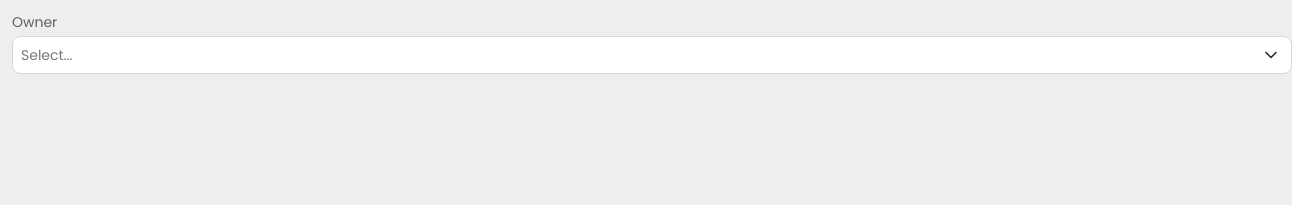
Test case: people and pictures in the combo box › keeps the chosen person's circle in the box once the list closes
The image size is (1292, 205).
Click the dropdown labelled "Owner" at {"x": 634, "y": 55}, box 21,44 -> 1247,66
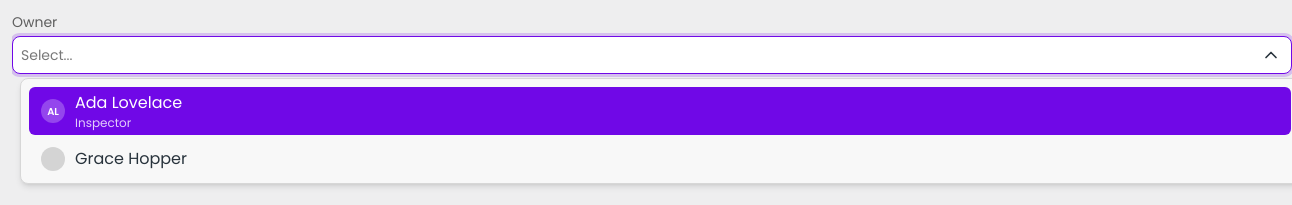
Click the option "AL Ada Lovelace Inspector" at {"x": 656, "y": 111}, box 21,83 -> 1291,139
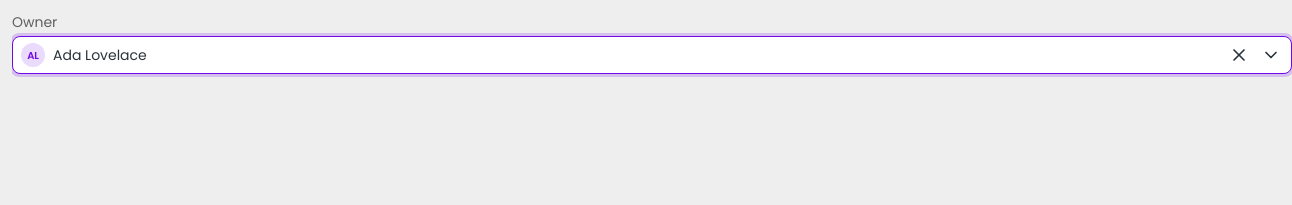
Expected: the text "AL" is shown, 21,43 -> 45,67
Expected: the dropdown labelled "Owner" holds "Ada Lovelace", 53,44 -> 1215,66
